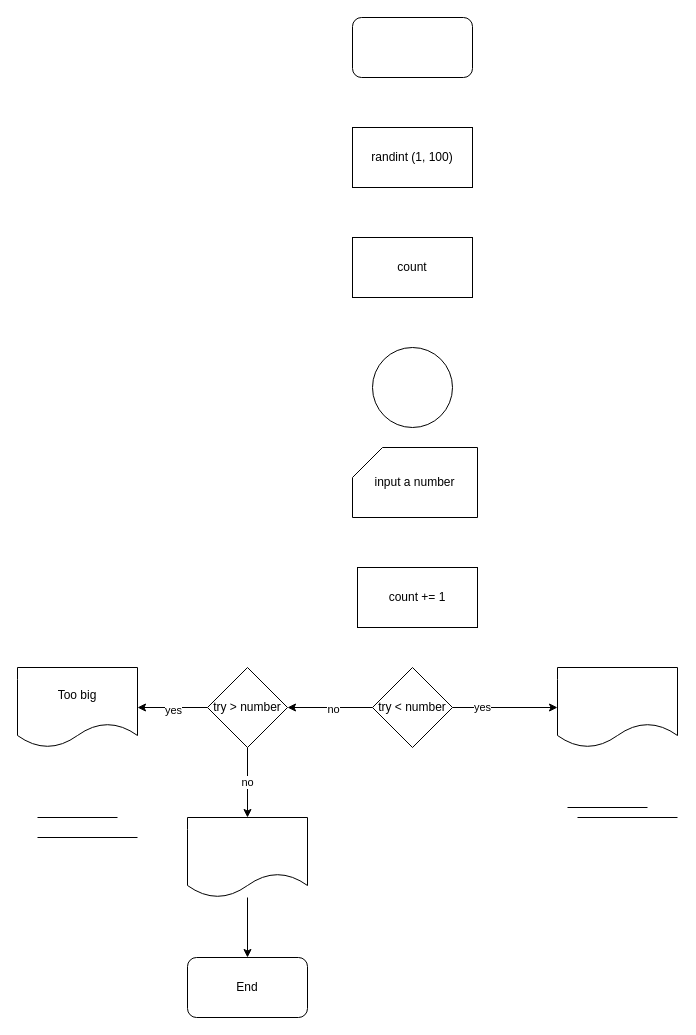
Image size: 696x1035. Some labels were removed from this diagram. Each missing label, with the centre of its shape:
correct: the point at 247,857
Start: the point at 412,47
Too small: the point at 617,707
while True: the point at 412,387
